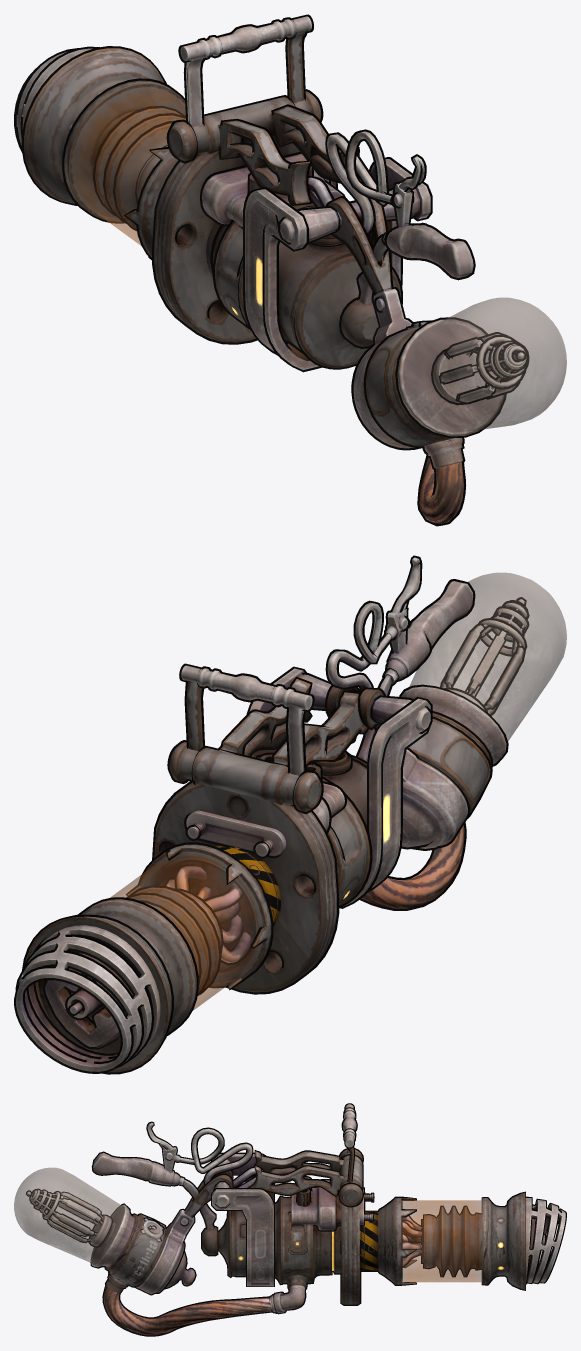
Rendered from ray_gun.glb.
The picture shows the model from 3 angles, top to bottom: view 1: azimuth 30°, elevation 25°; view 2: azimuth 150°, elevation 25°; view 3: azimuth 270°, elevation 25°; orthographic projection. The views are drawn at different scales.
Visible parts, largest first — view 1: FXTRAY_GUN_Main_Low, FXTRAY_GUN_Glass_Low, FXTRAY_GUN_Main_Low1; view 2: FXTRAY_GUN_Main_Low, FXTRAY_GUN_Glass_Low, FXTRAY_GUN_Main_Low1; view 3: FXTRAY_GUN_Main_Low, FXTRAY_GUN_Glass_Low, FXTRAY_GUN_Main_Low1.
Boxes of the visible parts, x1,y1,x2,y2 form: FXTRAY_GUN_Main_Low: (16, 16, 526, 524); FXTRAY_GUN_Glass_Low: (72, 87, 566, 432); FXTRAY_GUN_Main_Low1: (14, 14, 529, 526); FXTRAY_GUN_Main_Low: (16, 557, 527, 1072); FXTRAY_GUN_Glass_Low: (110, 572, 566, 1010); FXTRAY_GUN_Main_Low1: (14, 555, 529, 1074); FXTRAY_GUN_Main_Low: (27, 1104, 565, 1335); FXTRAY_GUN_Glass_Low: (14, 1167, 482, 1282); FXTRAY_GUN_Main_Low1: (26, 1103, 566, 1336).
Bounding box in the file's own units: 0.0187 × 0.037 × 0.0871.
Materials: 3 (2 with a texture image).
